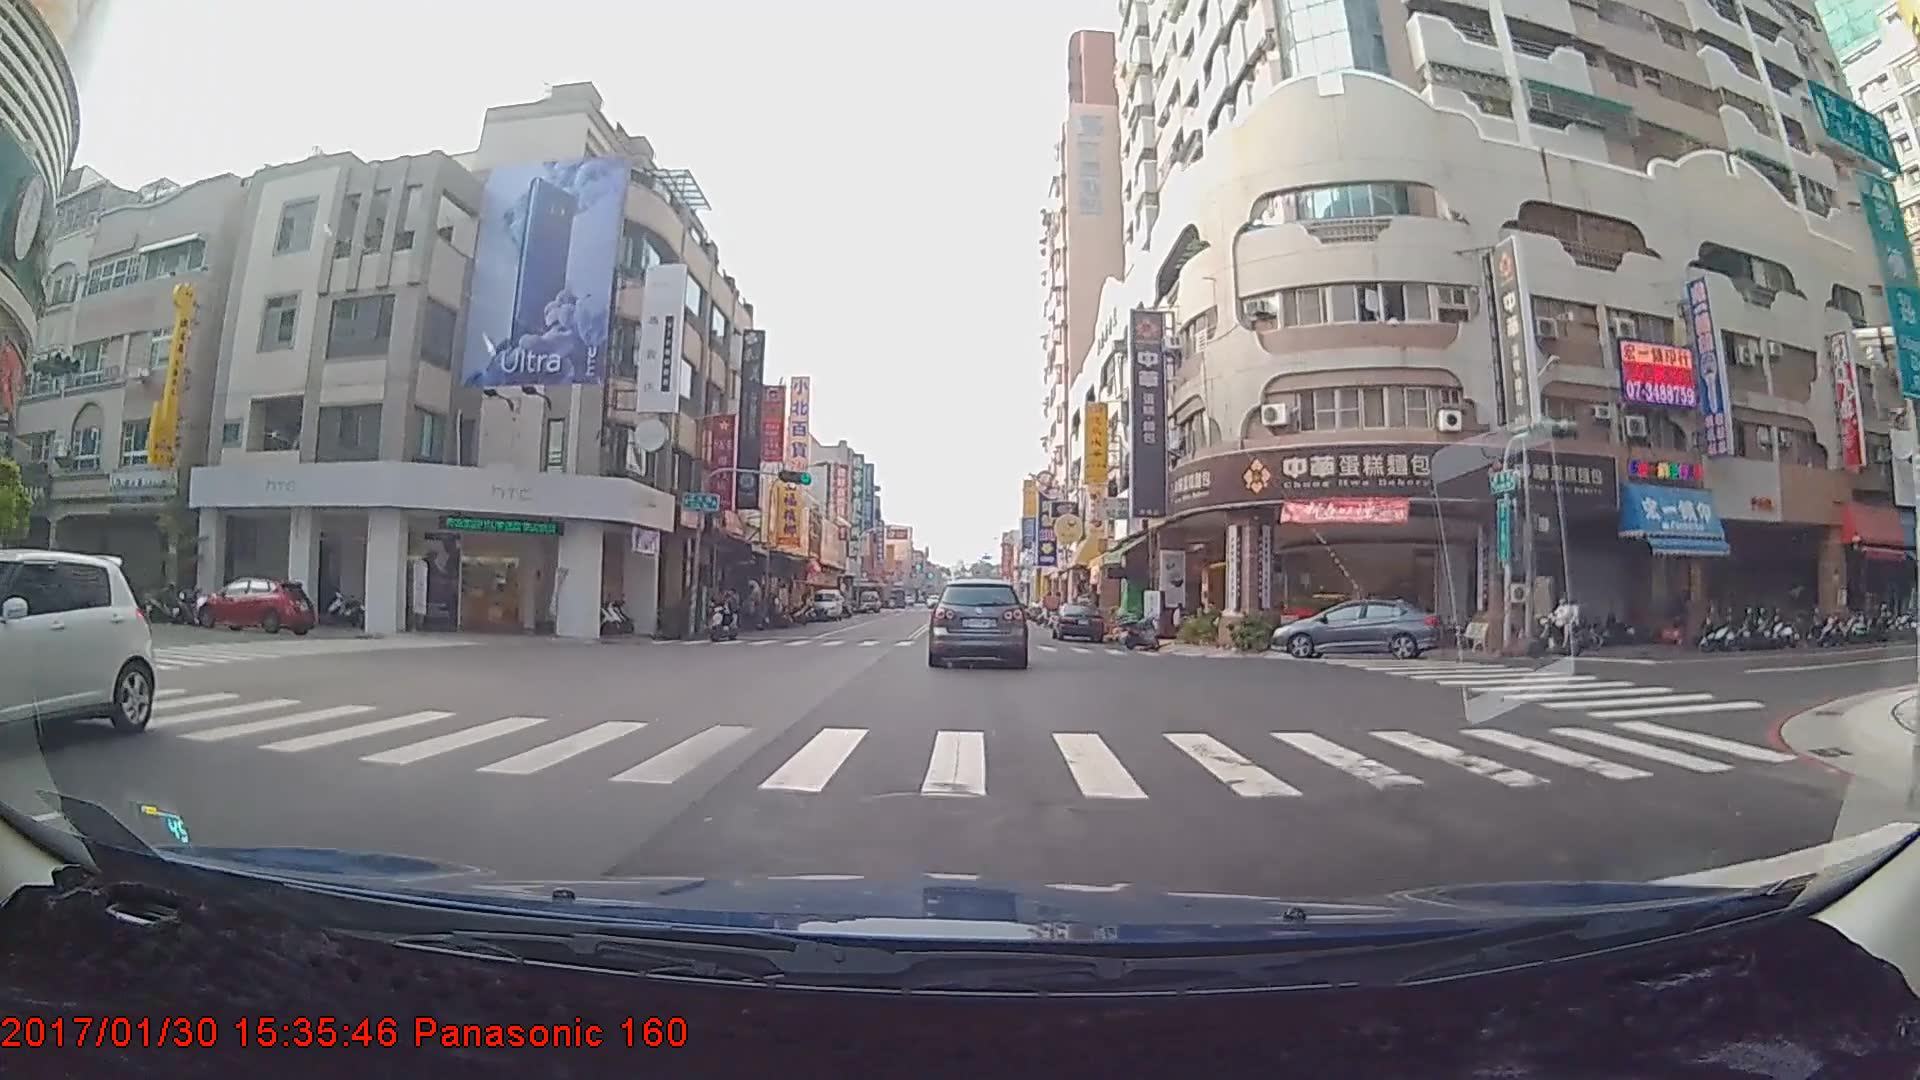rider: (1534, 591, 1594, 653), (704, 579, 741, 639)
vehicle: (0, 545, 154, 767), (1269, 595, 1436, 656), (928, 580, 1026, 667), (198, 575, 312, 636), (1049, 599, 1103, 642), (806, 585, 842, 618)
